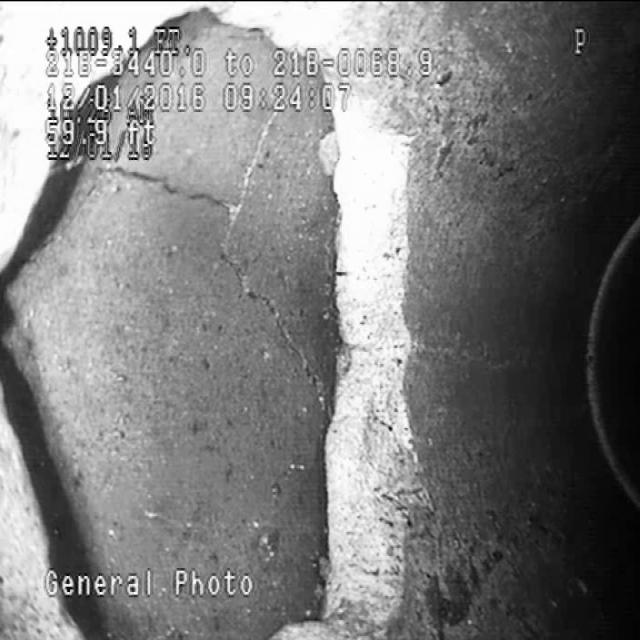Crack: (200, 148, 318, 398)
